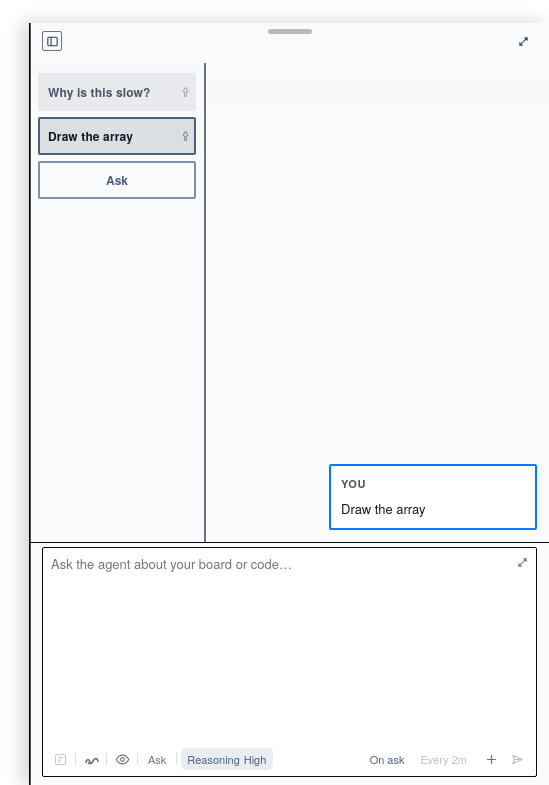
Test case: lists each question as a session and shows only the selected one
The width and height of the screenshot is (549, 785).
Check: the button with class "is-active" reads "Draw the array", box [38,117,174,155]
Check: the element with class "lc-agent-messages" shows "Draw the array", box [341,499,426,518]
Click the button "Why is this slow?": point(106, 92) [38,73,174,111]
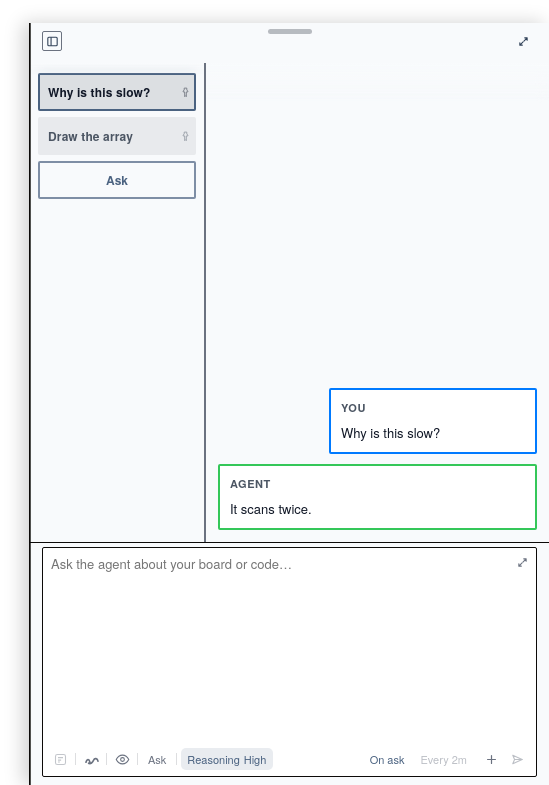
Check: the element with class "lc-agent-messages" shows "It scans twice.", box [230,499,312,518]
Check: the element with class "lc-agent-messages" no longer shows "Draw the array"
